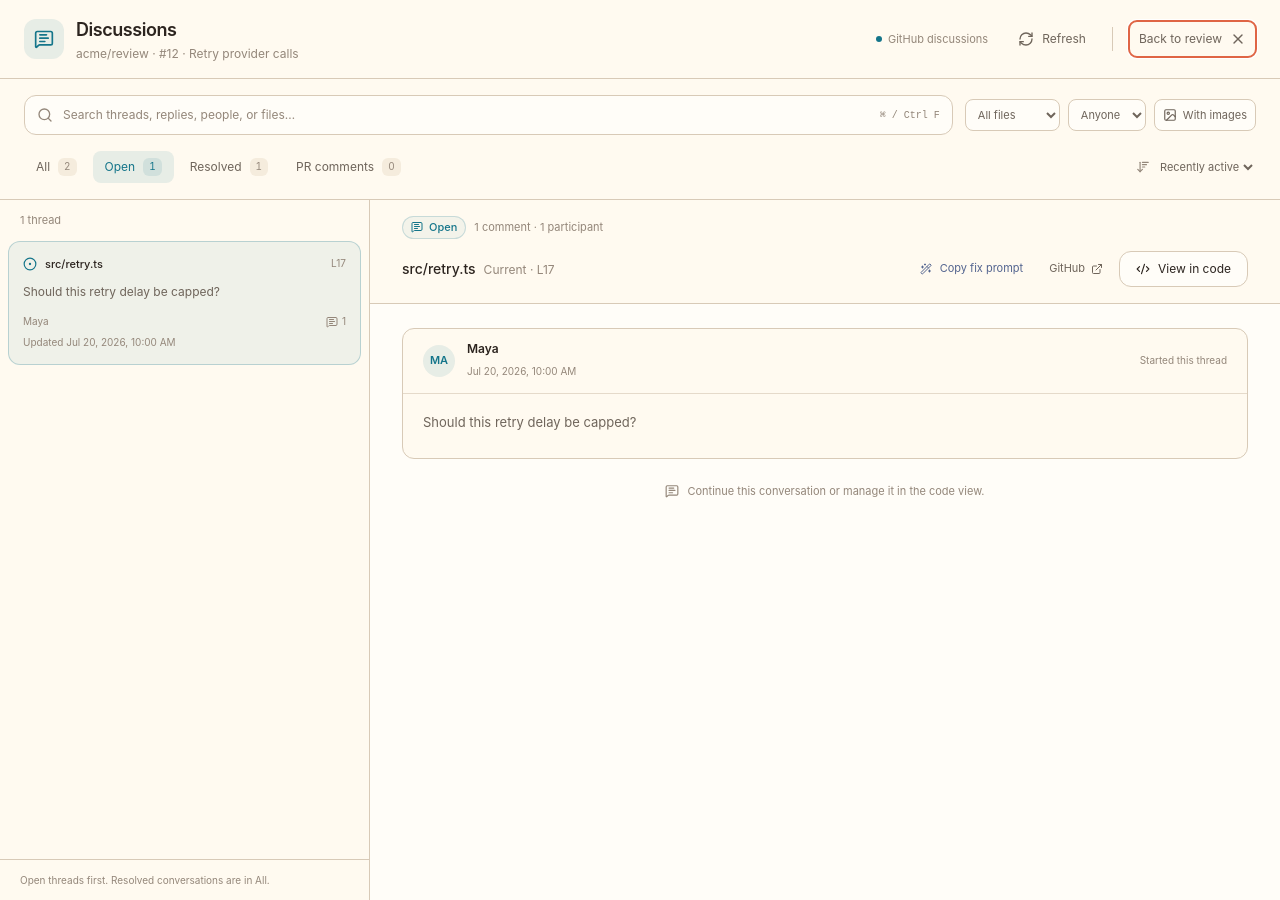
Test: ReviewDiscussionsPanel › shows open discussions first and keeps resolved discussions behind a tab
This screenshot has width=1280, height=900.
Expected: the text "Should this retry delay be capped?" below "Started this thread" is shown, [423,414,636,430]
Expected: the text "The abort signal now covers this path." is not shown
Click the tab "Resolved 1" at (229, 167), box [178,151,280,183]
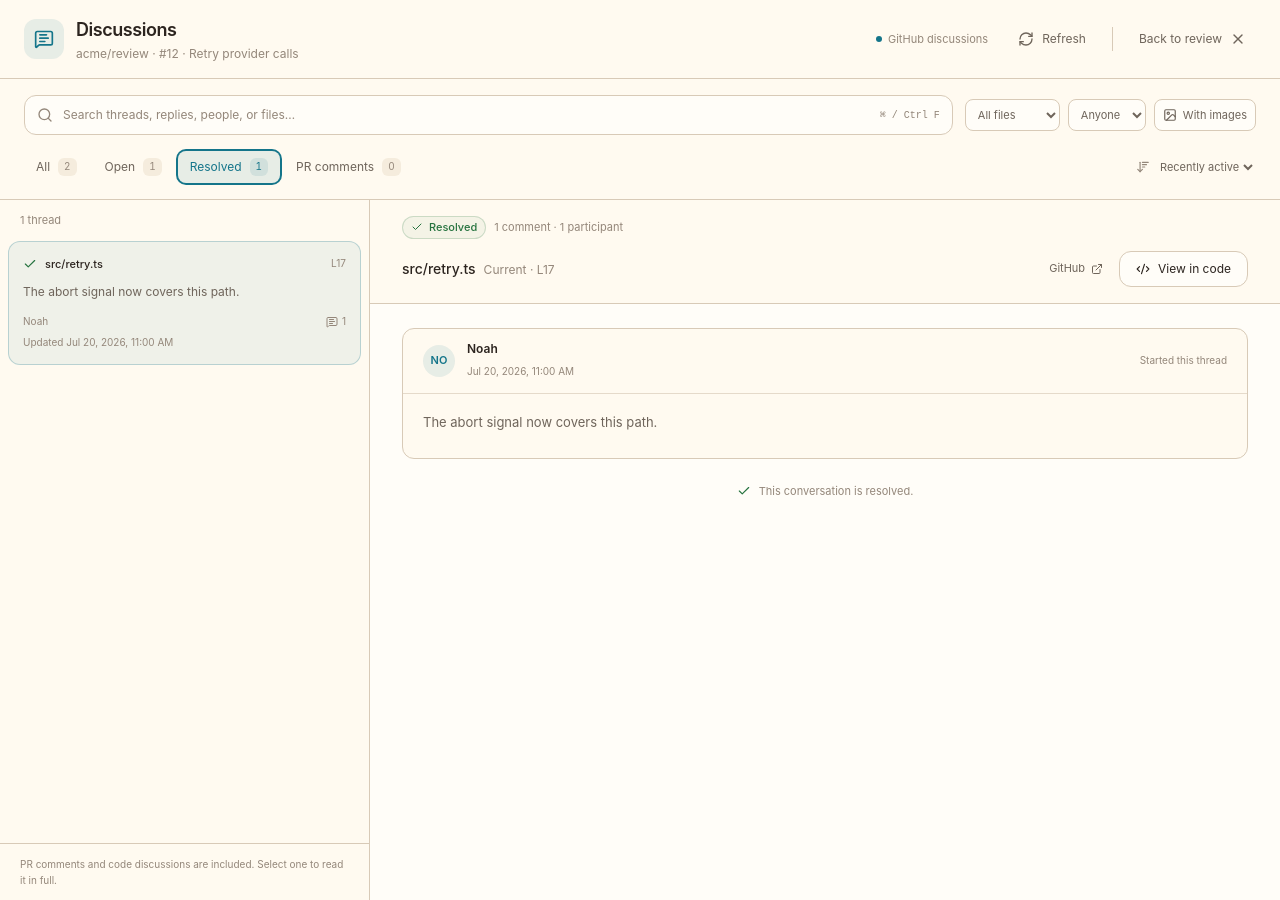
Expected: the text "The abort signal now covers this path." below "Started this thread" is shown, [423,414,657,430]
Expected: the button "Should this retry delay be capped?" is gone
